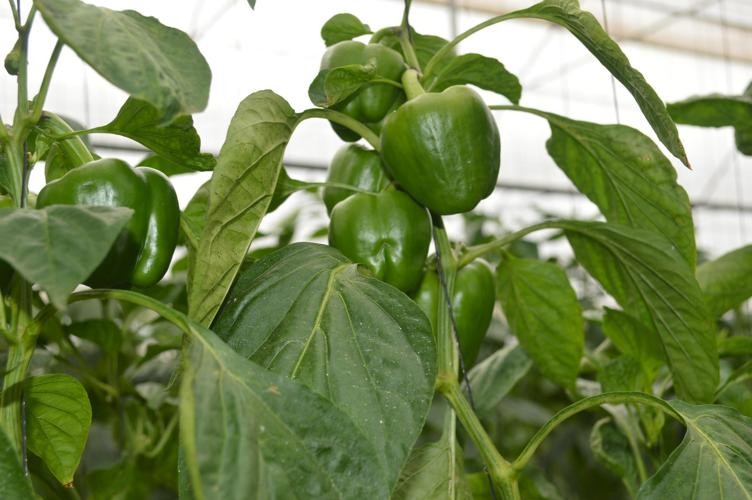BellPepper: (37, 156, 186, 296), (374, 81, 515, 212), (309, 185, 432, 290), (314, 33, 409, 130), (418, 253, 493, 371), (316, 138, 400, 206)
